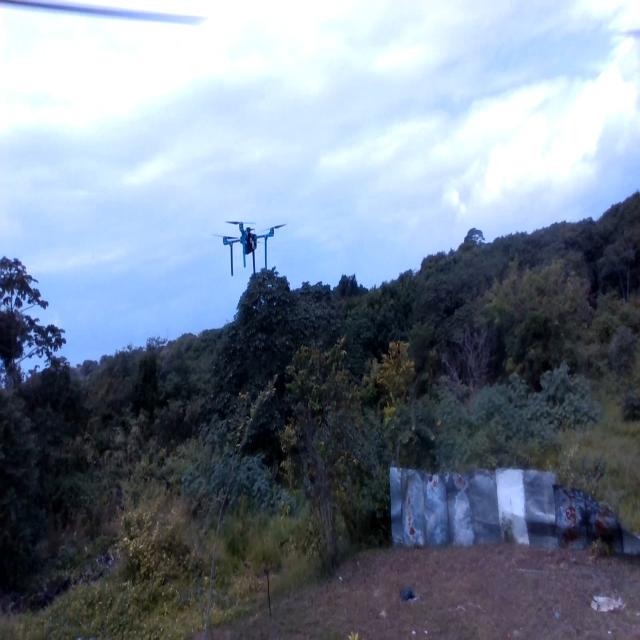-uav-: (208, 192, 292, 295)
